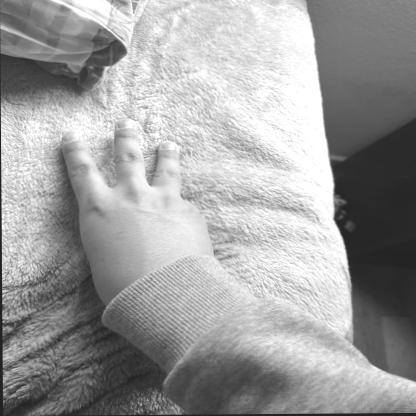W: (55, 108, 214, 316)
